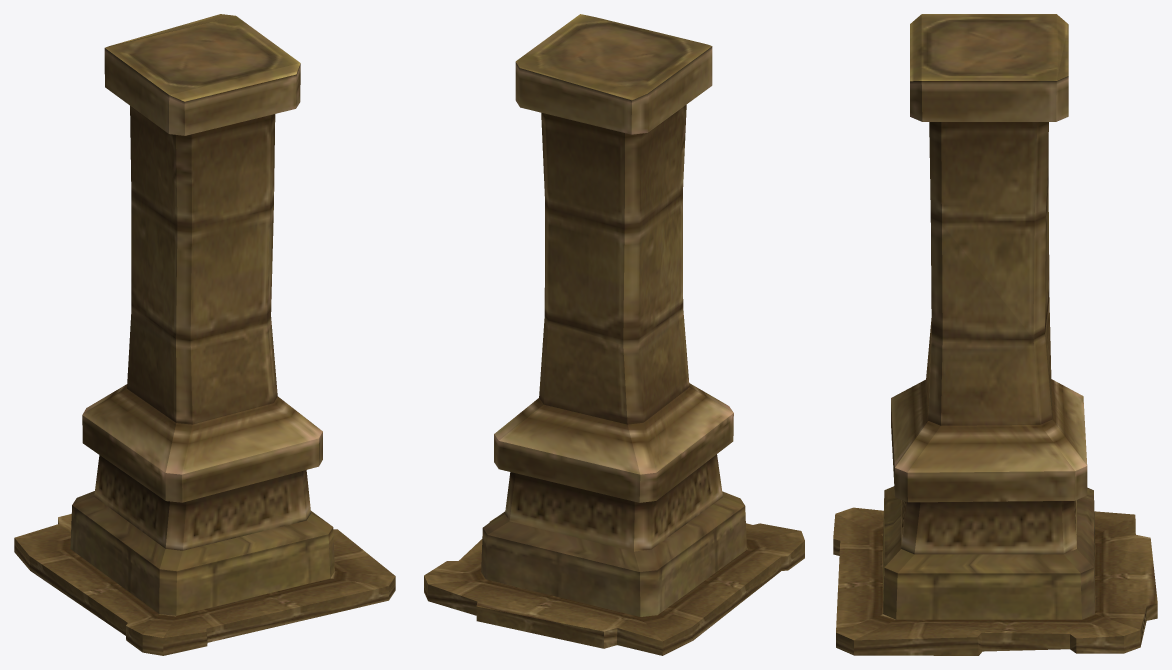
The model's file is obj_small_070.FBX.
The picture shows the model from 3 angles, left to right: view 1: azimuth 30°, elevation 25°; view 2: azimuth 150°, elevation 25°; view 3: azimuth 270°, elevation 25°; orthographic projection. The views are drawn at different scales.
Parts seen in each view (by area): view 1: obj_small_070_01; view 2: obj_small_070_01; view 3: obj_small_070_01.
Part boxes in pixels (box(x1,y1,x2,y2)): obj_small_070_01: box(14, 14, 395, 655); obj_small_070_01: box(424, 14, 804, 655); obj_small_070_01: box(833, 14, 1157, 655).
Bounding box in the file's own units: 3.31 × 6.44 × 3.49.
